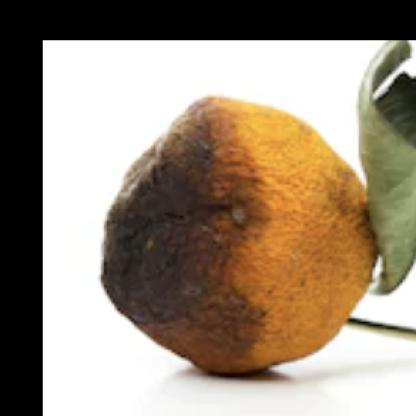rotten: (103, 97, 380, 379)
